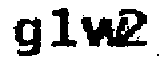1: (49, 5, 79, 50)
2: (126, 7, 154, 52)
g: (12, 14, 44, 60)
w: (78, 17, 126, 50)
